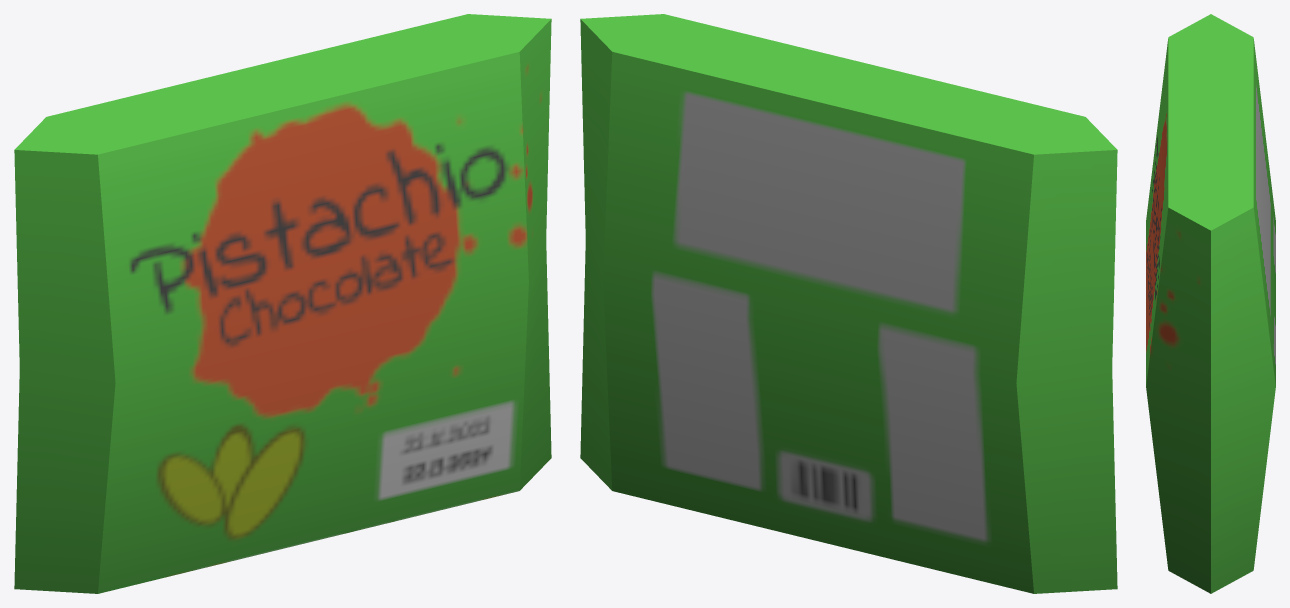
File: Chocolate_03.fbx
3 views of the same model, side by side, from view 1: azimuth 30°, elevation 25°; view 2: azimuth 150°, elevation 25°; view 3: azimuth 270°, elevation 25° (orthographic). The views are drawn at different scales.
Visible parts, largest first — view 1: Chocolate_03; view 2: Chocolate_03; view 3: Chocolate_03.
Part boxes in pixels (bbox=[...]): Chocolate_03: bbox=[14, 14, 551, 593]; Chocolate_03: bbox=[580, 14, 1117, 593]; Chocolate_03: bbox=[1146, 14, 1275, 593].
Bounding box in the file's own units: 16.11 × 12.59 × 4.08.
